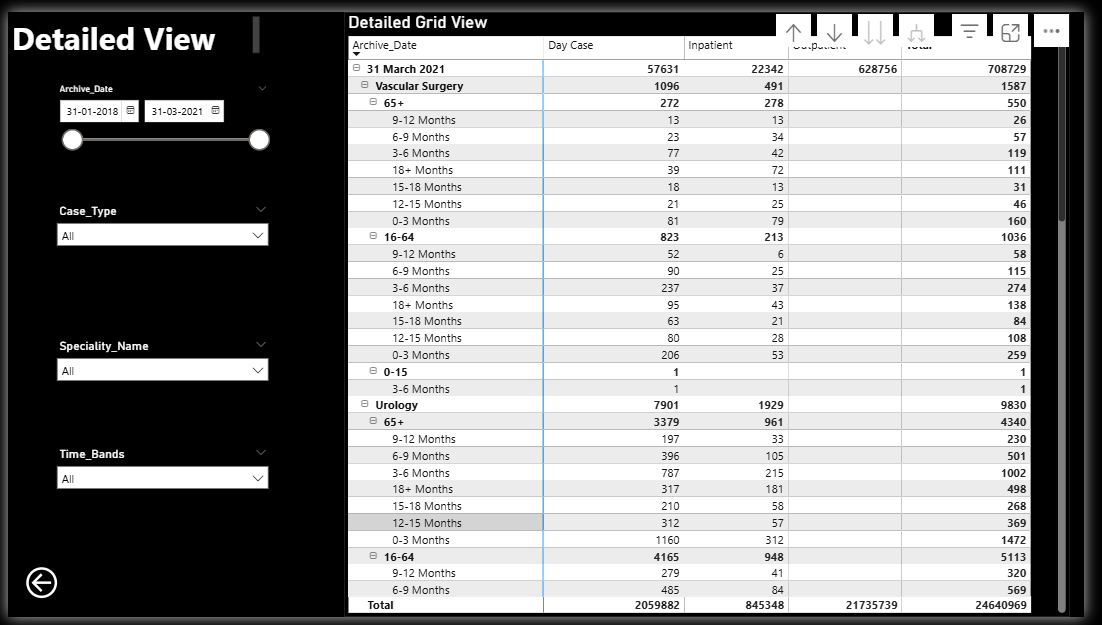

This screenshot's page, from the dashboard's own definition file:
{"tool":"powerbi","page":{"name":"Detail","canvas":[1280,720],"ordinal":1},"visuals":[{"type":"slicer","fields":{"Values":["All_Data.Case_Type"]},"box":[48,224,272,96],"z":0},{"type":"slicer","fields":{"Values":["All_Data.Archive_Date"]},"box":[48,80,272,112],"z":1000},{"type":"slicer","fields":{"Values":["All_Data.Speciality_Name"]},"box":[48,384,272,112],"z":2000},{"type":"textbox","box":[0,0,304,64],"z":3000},{"type":"slicer","fields":{"Values":["All_Data.Time_Bands"]},"box":[48,512,272,112],"z":4000},{"type":"pivotTable","title":"Detailed Grid View","fields":{"Rows":["All_Data.Archive_Date","All_Data.Specialty_Name","All_Data.Age_Profile","All_Data.Time_Bands"],"Values":["Sum(All_Data.Total)"],"Columns":["All_Data.Case_Type"]},"box":[400,0,864,720],"z":5000},{"type":"actionButton","box":[16,656,96,48],"z":6000}]}

Visuals, with their boxes on the page's 1280x720 design canvas (x1, y1, x2, y2). These are canvas units, not pixel positions in the 1102x625 screenshot, which may show the page scaled, cropped or inside an application window:
slicer - All_Data.Case_Type: <box>48,224,320,320</box>
slicer - All_Data.Archive_Date: <box>48,80,320,192</box>
slicer - All_Data.Speciality_Name: <box>48,384,320,496</box>
textbox: <box>0,0,304,64</box>
slicer - All_Data.Time_Bands: <box>48,512,320,624</box>
"Detailed Grid View" pivotTable: <box>400,0,1264,720</box>
actionButton: <box>16,656,112,704</box>
